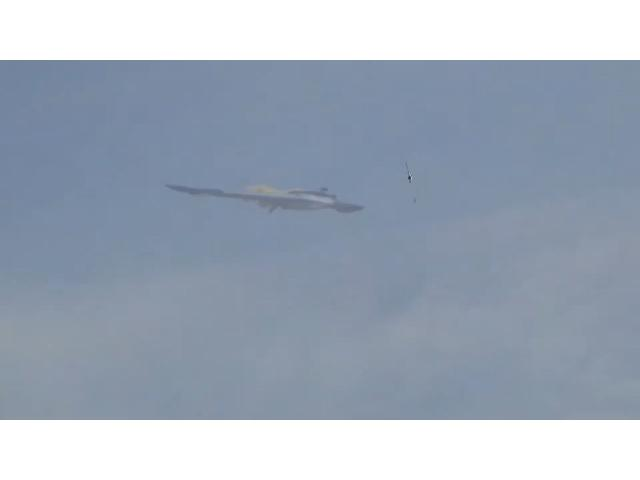Anti-Drone: (166, 184, 366, 216)
